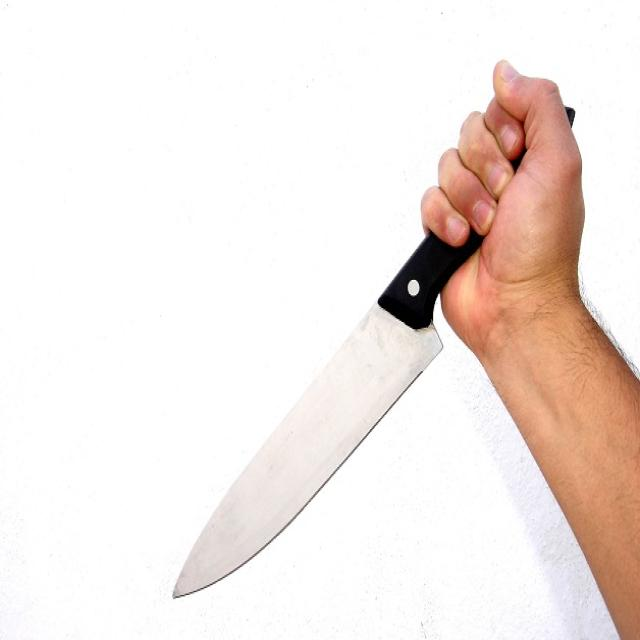knife: (168, 105, 580, 609)
